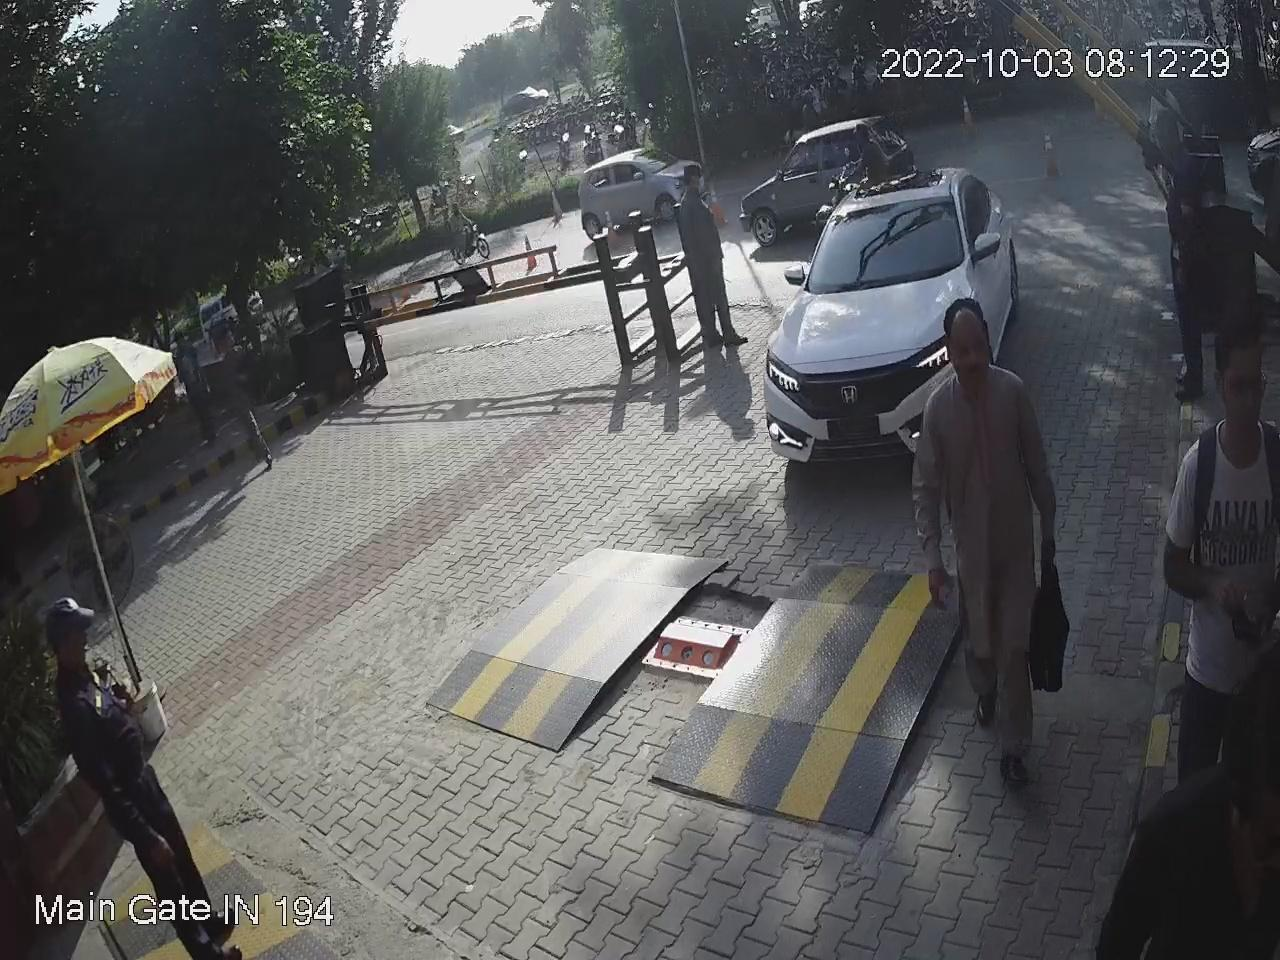windshield: (800, 188, 968, 285)
